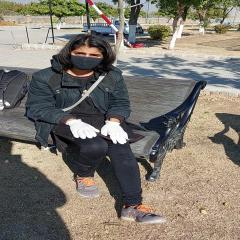gloved: (101, 121, 130, 144), (66, 120, 100, 138)
